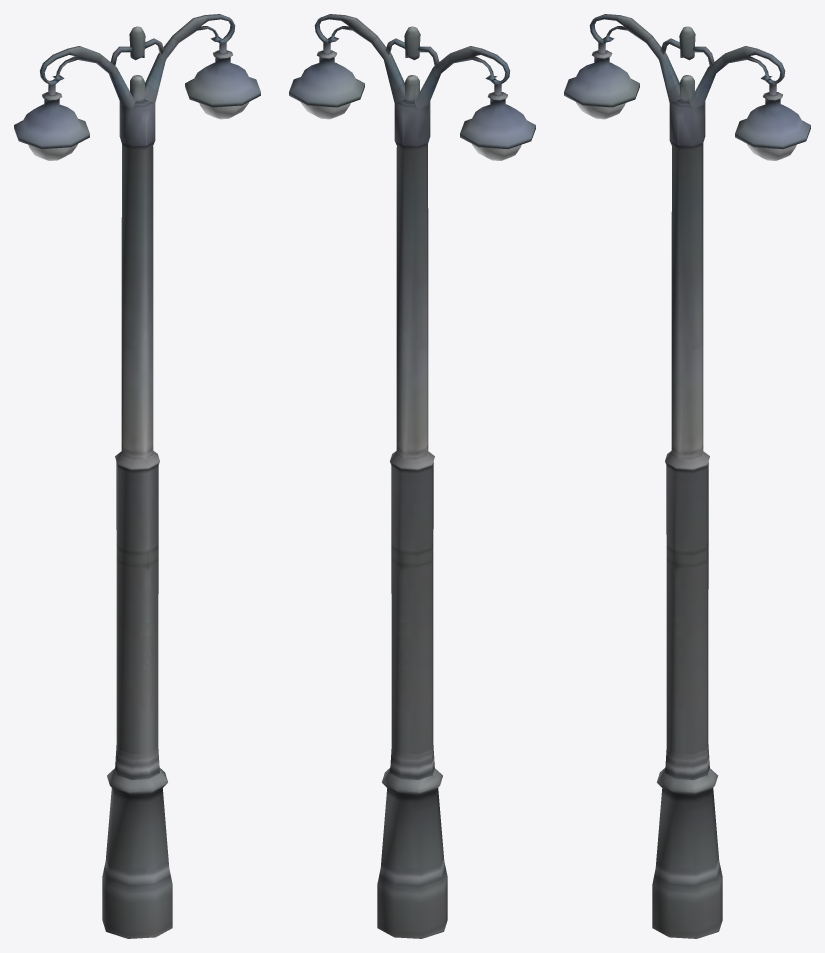
File: lamp_post-transformed.glb
3 views of the same model, side by side, from view 1: azimuth 30°, elevation 25°; view 2: azimuth 150°, elevation 25°; view 3: azimuth 330°, elevation 25° (orthographic).
Parts seen in each view (by area): view 1: Cylinder_Material.001_0; view 2: Cylinder_Material.001_0; view 3: Cylinder_Material.001_0.
Boxes of the visible parts, box(x1,y1,x2,y2) form: Cylinder_Material.001_0: box(14, 14, 260, 938); Cylinder_Material.001_0: box(289, 14, 535, 938); Cylinder_Material.001_0: box(564, 14, 810, 938).
Size of the model in its own units: 1.76 by 6.35 by 0.4921.
1 material, 1 textured.
